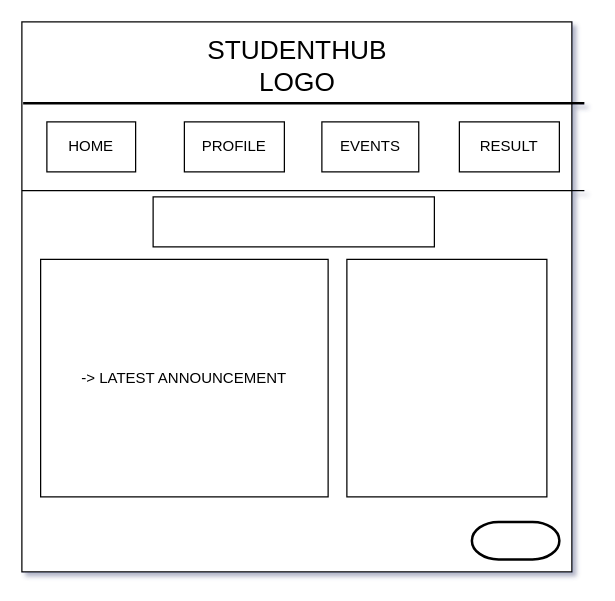
The diagram is 615 pixels wide and 601 high, and some of its shapes have lost their labels. Here are the shapes that lost their labels. From the top down, the box of each, then its label:
(152, 196, 434, 247): WELCOME MESSAGE
(346, 258, 547, 497): PHOTO
(470, 520, 560, 560): LOGOUT
